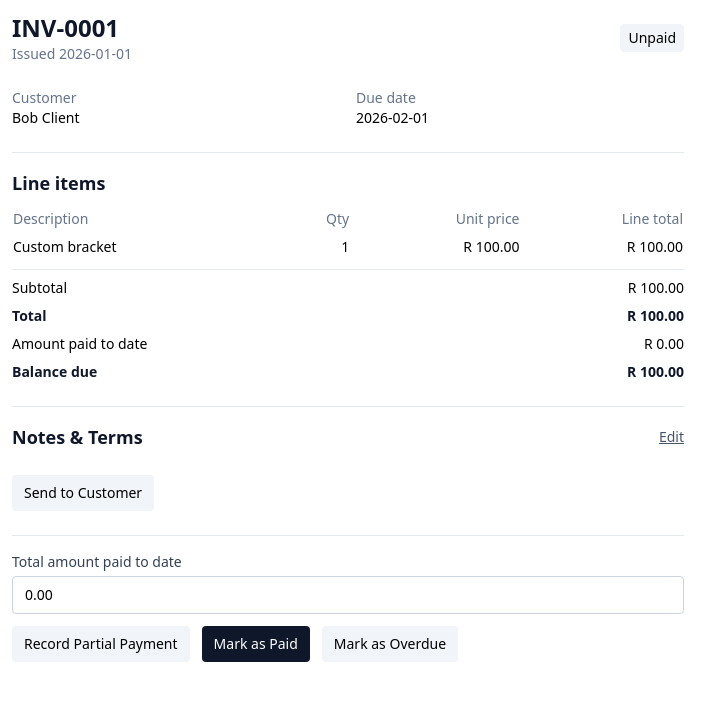
InvoiceDetailPage › sends the invoice, downloads the PDF, and shows a dev-mode success message
Click the button "Send to Customer". click: (83, 493)
box: [12,475,154,511]
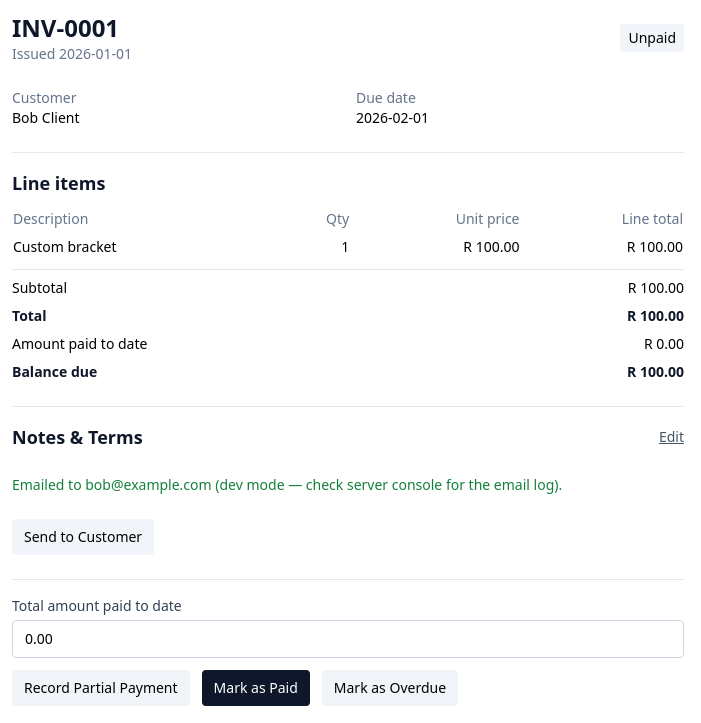
expect the text "Emailed to bob@example.com" is shown: met, box [12,475,562,494]
